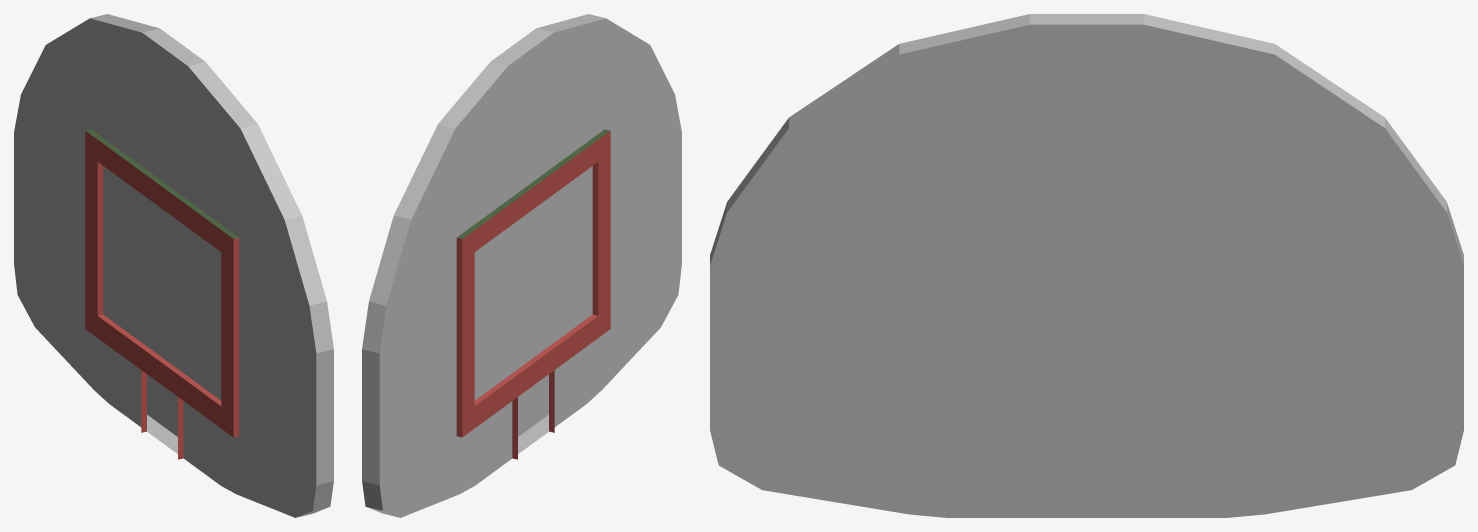
File: Backboard.fbx
3 renders of one model, left to right at view 1: azimuth 30°, elevation 25°; view 2: azimuth 150°, elevation 25°; view 3: azimuth 270°, elevation 25°, orthographic. The views are drawn at different scales.
Parts seen in each view (by area): view 1: Backboard; view 2: Backboard; view 3: Backboard.
Part boxes in pixels (x1=…): Backboard: x1=14, y1=14, x2=333, y2=517; Backboard: x1=362, y1=14, x2=681, y2=517; Backboard: x1=710, y1=14, x2=1463, y2=517.
Bounding box in the file's own units: 8.11 × 132 × 182.
